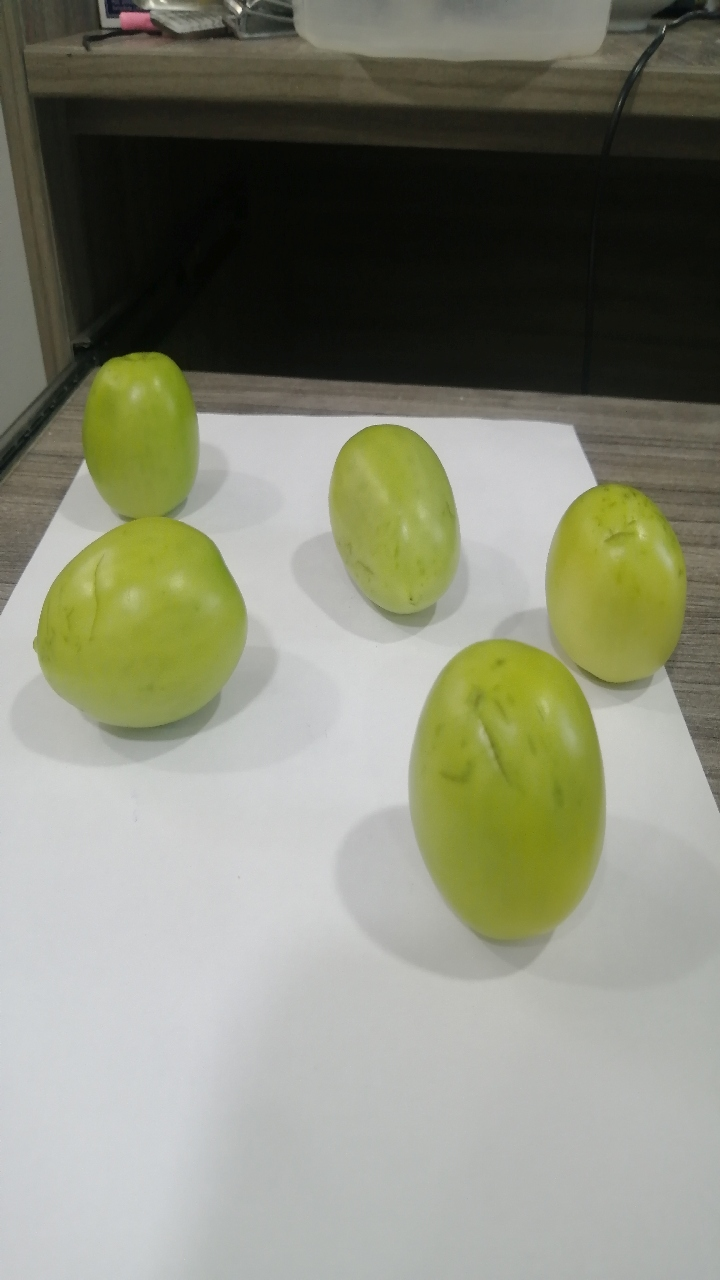tomateVerde: (391, 622, 615, 949), (21, 506, 266, 755), (523, 465, 701, 703), (61, 320, 235, 554), (314, 386, 472, 625)
